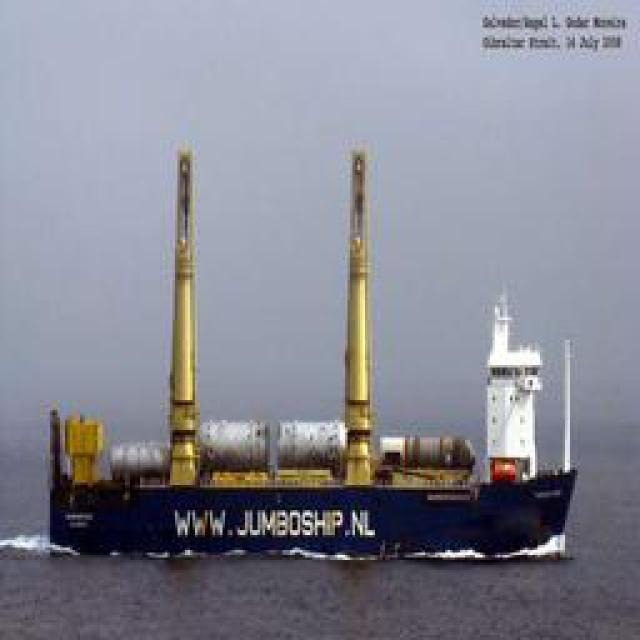Ship: (40, 135, 582, 572)
